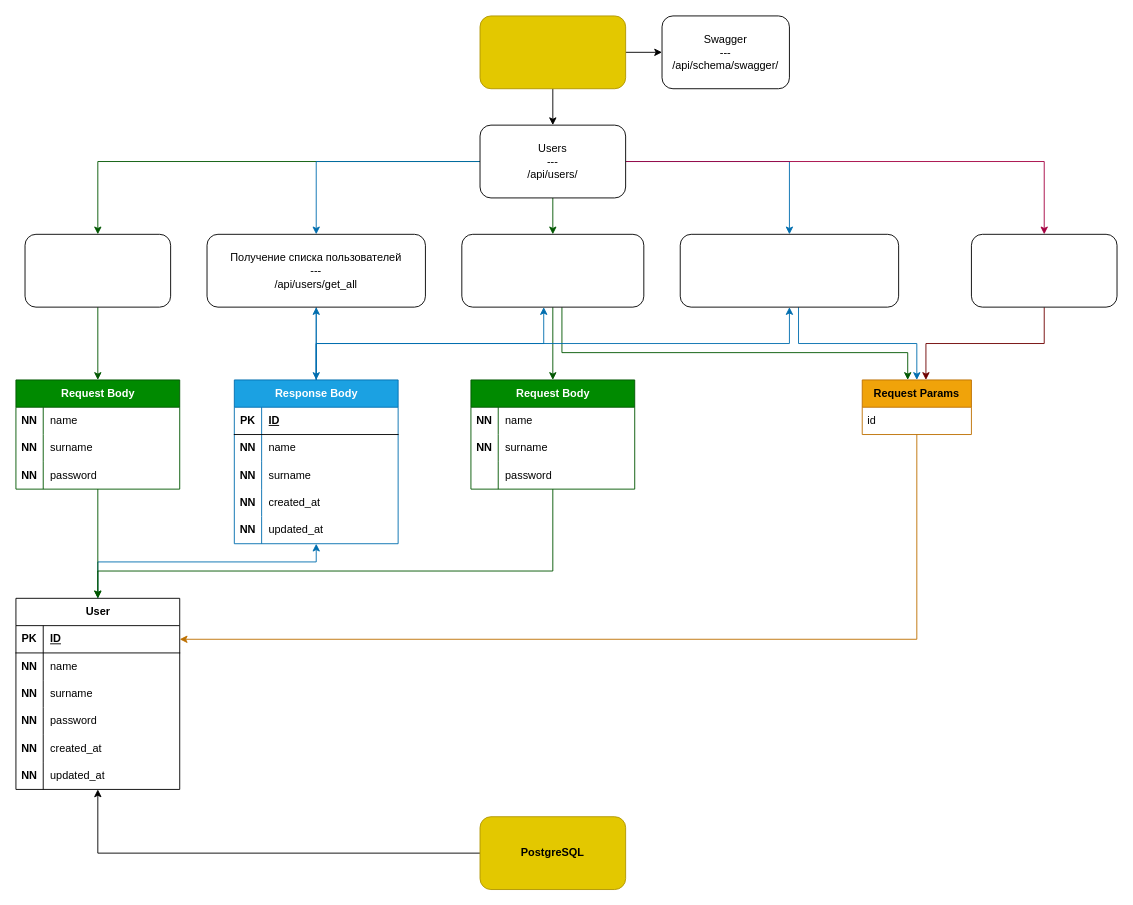
Image size: 1133x905. Some labels were removed from this diagram. Each missing label, with the centre of its shape:
REST API --- /api/: [552,52]
Обновление данных пользователя --- /api/users/update/: [552,270]
Получение данных одного пользователя --- /api/users/get: [789,270]
Создание пользователя --- /api/users/create: [97,270]
Удаление пользователя --- /api/users/delete: [1044,270]
